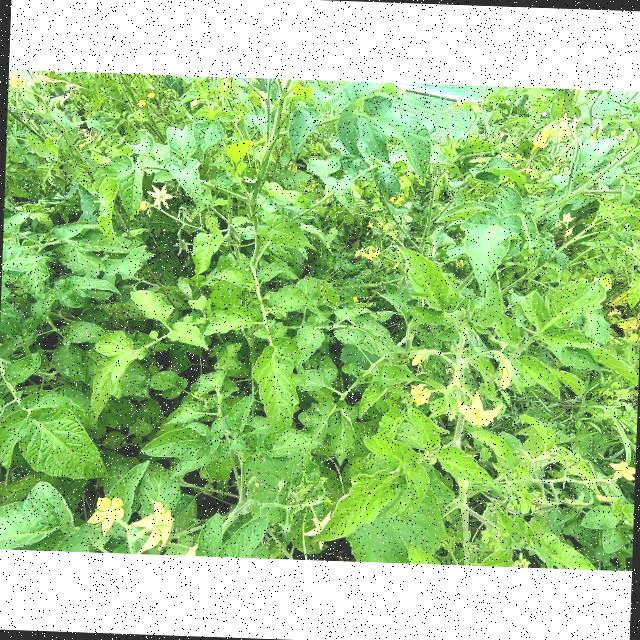Flowers: (128, 498, 174, 554), (454, 388, 502, 426), (87, 496, 123, 538), (302, 510, 328, 550), (492, 356, 514, 392), (146, 182, 174, 210), (551, 112, 577, 142), (606, 459, 636, 482), (409, 382, 432, 407), (528, 124, 546, 154), (410, 347, 438, 366), (354, 244, 380, 260), (8, 72, 26, 92), (596, 493, 618, 503), (388, 196, 404, 206), (560, 212, 572, 224), (564, 228, 574, 240), (454, 258, 466, 268), (138, 199, 148, 210), (138, 99, 146, 108), (367, 221, 374, 228), (146, 92, 154, 98), (390, 232, 398, 238), (382, 224, 388, 232), (377, 220, 382, 228)
